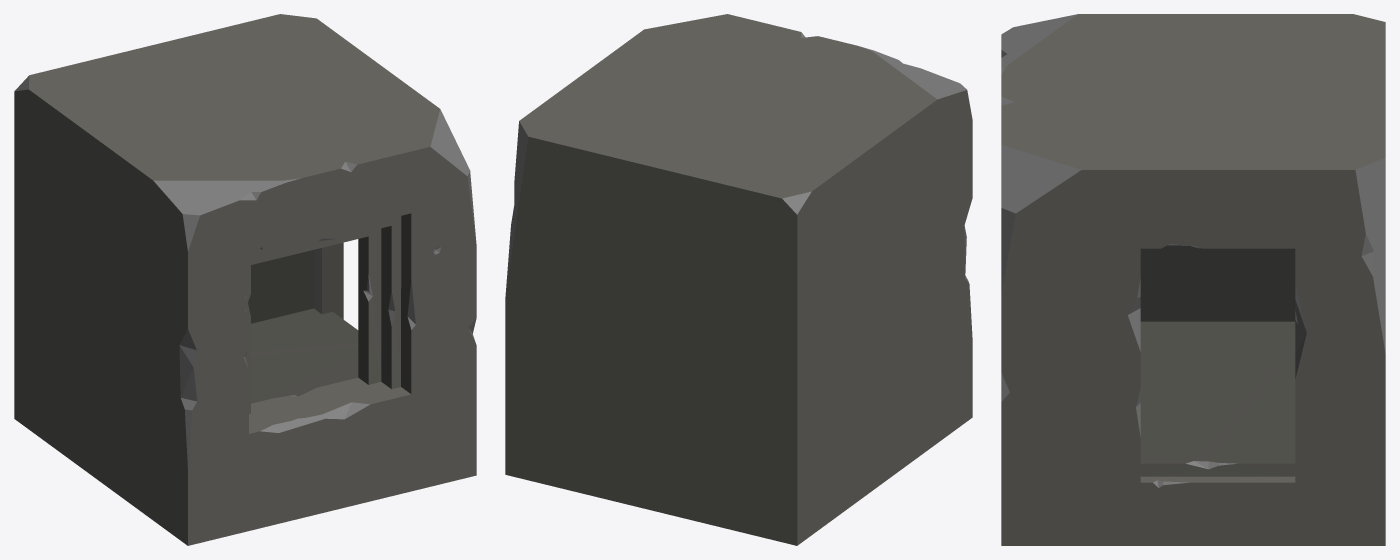
Rendered from 20C_Bunker02.fbx.
3 renders of one model, left to right at view 1: azimuth 30°, elevation 25°; view 2: azimuth 150°, elevation 25°; view 3: azimuth 270°, elevation 25°, orthographic. The views are drawn at different scales.
Parts seen in each view (by area): view 1: 20C_Bunker02; view 2: 20C_Bunker02; view 3: 20C_Bunker02.
Boxes of the visible parts, left/top/right/bottom form: 20C_Bunker02: left=14, top=14, right=476, bottom=545; 20C_Bunker02: left=505, top=14, right=972, bottom=545; 20C_Bunker02: left=1001, top=14, right=1385, bottom=545.
Size of the model in its own units: 43.7 by 49.18 by 45.51.
